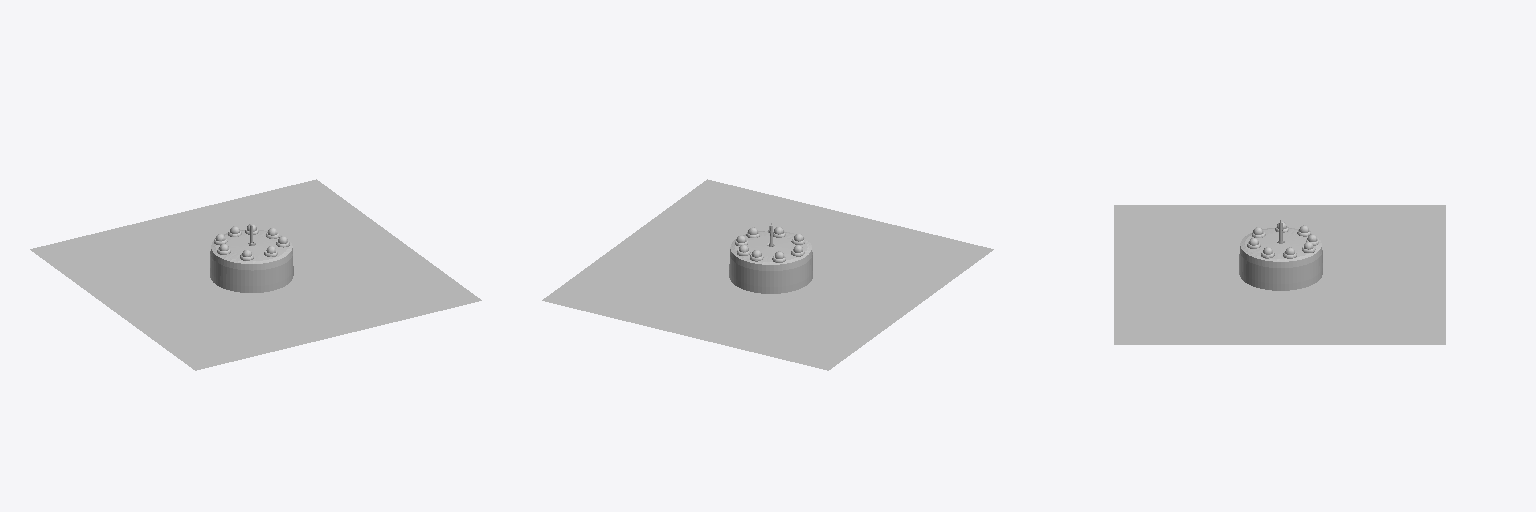
Rendered from cake.obj.
3 renders of one model, left to right at view 1: azimuth 30°, elevation 25°; view 2: azimuth 150°, elevation 25°; view 3: azimuth 270°, elevation 25°, orthographic.
Visible parts, largest first — view 1: Mesh.020_Mesh.021, Mesh; view 2: Mesh.020_Mesh.021, Mesh; view 3: Mesh.020_Mesh.021, Mesh.
Part boxes in pixels (left/top/right/bottom): Mesh.020_Mesh.021: left=30, top=179, right=481, bottom=370; Mesh: left=210, top=230, right=293, bottom=292; Mesh.020_Mesh.021: left=542, top=179, right=993, bottom=370; Mesh: left=729, top=231, right=812, bottom=293; Mesh.020_Mesh.021: left=1114, top=205, right=1445, bottom=344; Mesh: left=1239, top=228, right=1322, bottom=290.
Bounding box in the file's own units: 23.7 × 5.44 × 23.7.